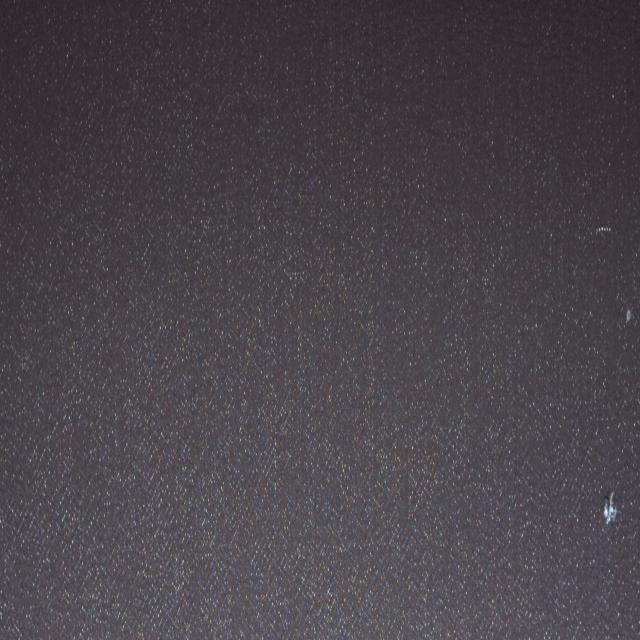Knot: (603, 492, 621, 526)
